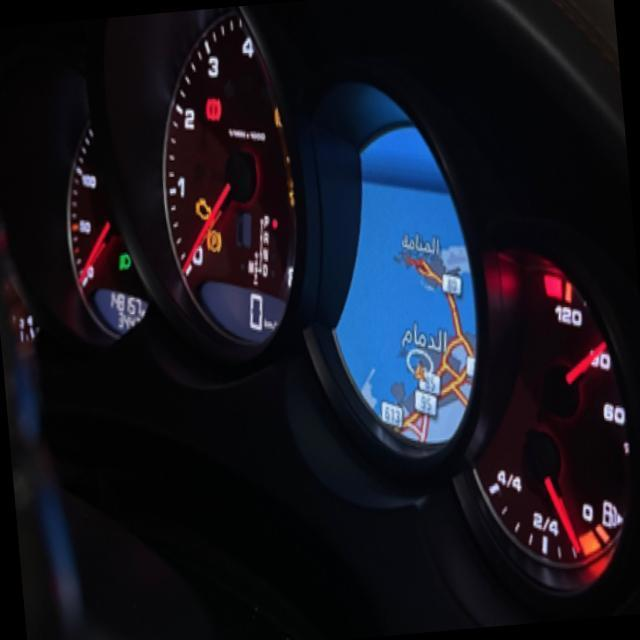Low beam: (115, 250, 134, 268)
